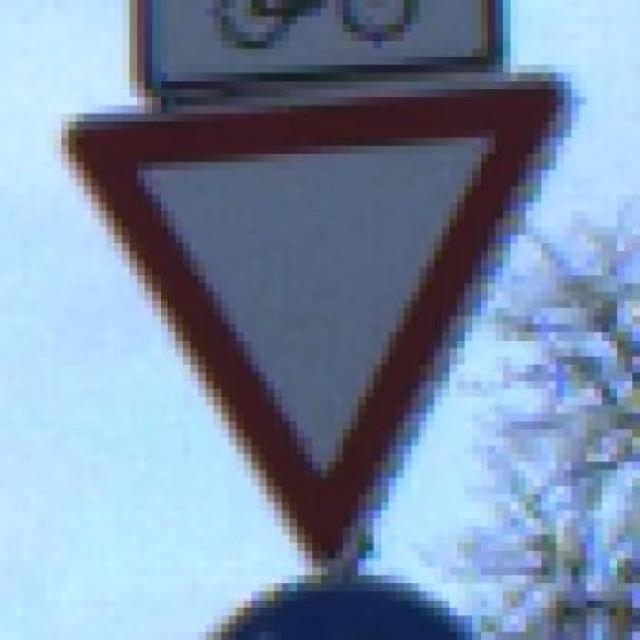Give Way: (15, 64, 587, 576)
